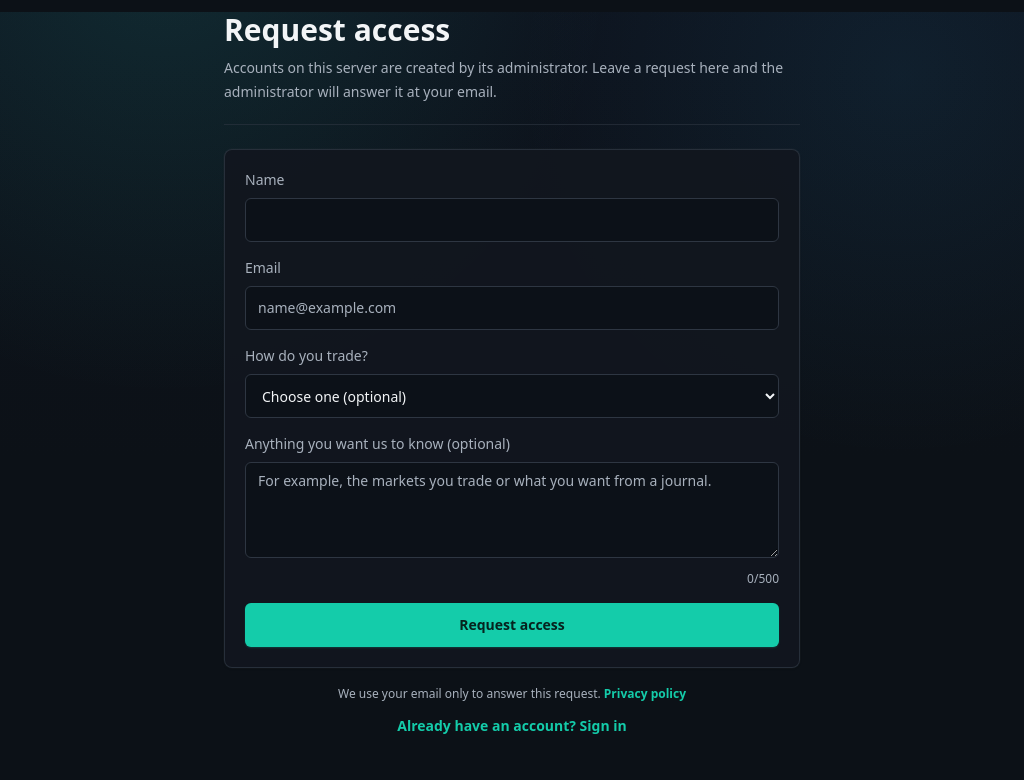
the request-access page in the closed mode (en) › promises no invite code, before or after the request is sent, and has no sign-up link
The image size is (1024, 780).
Type "Sara" into the field labelled "Name" at (512, 220), box [245,198,779,242]
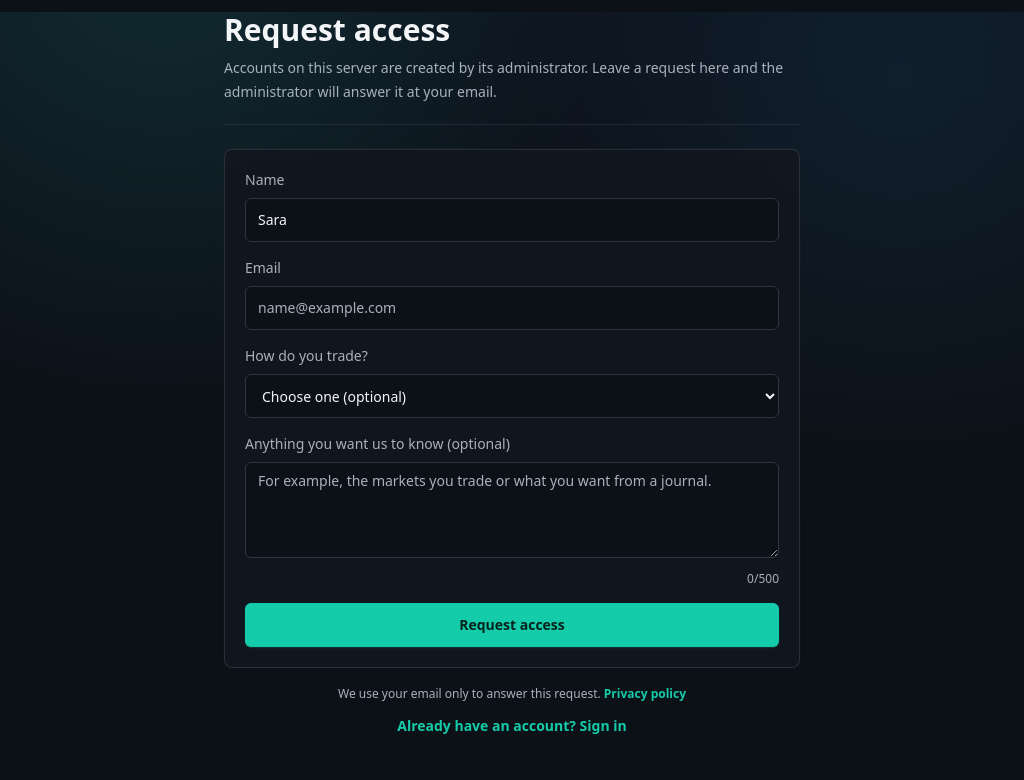
Type "sara@example.com" into the field labelled "Email" at (512, 308), box [245,286,779,330]
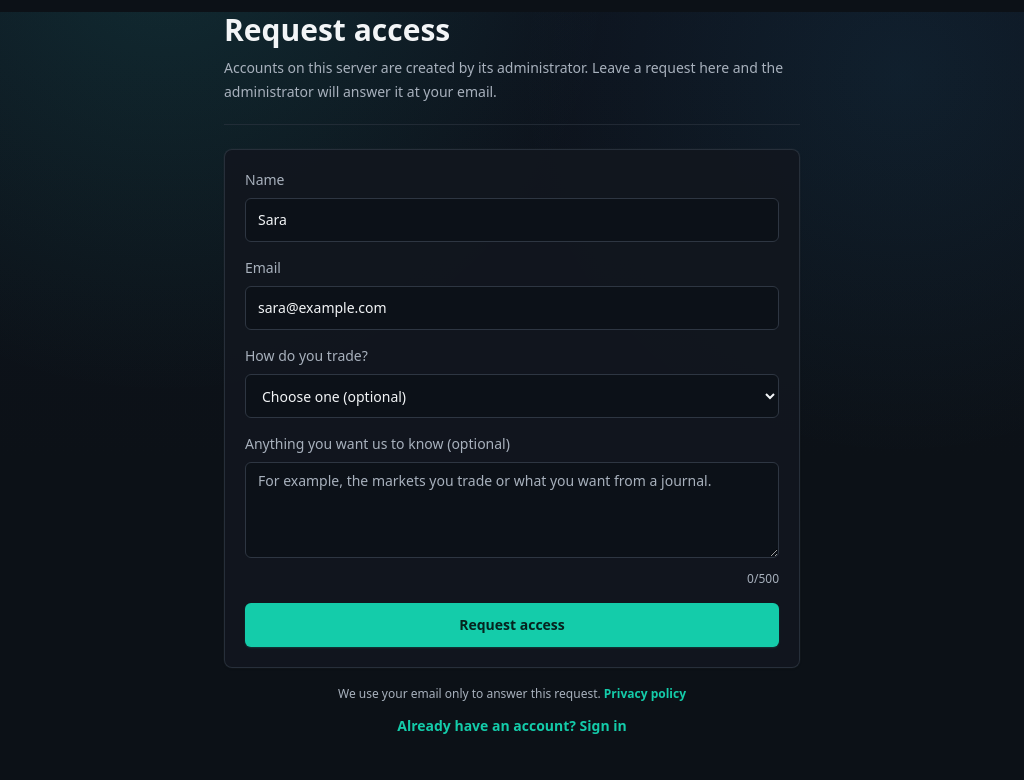
Click the button "Request access" at (512, 625), box [245,603,779,647]
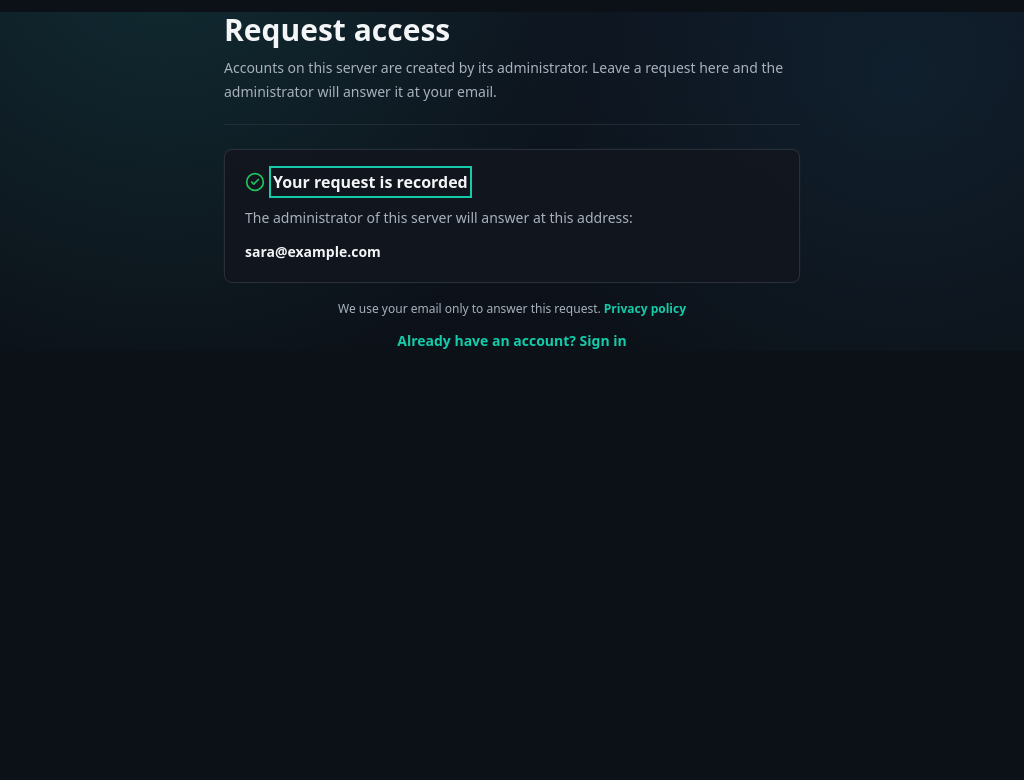
Now the text "The administrator of this server will answer at this address:" is shown, box [245,208,633,227]
